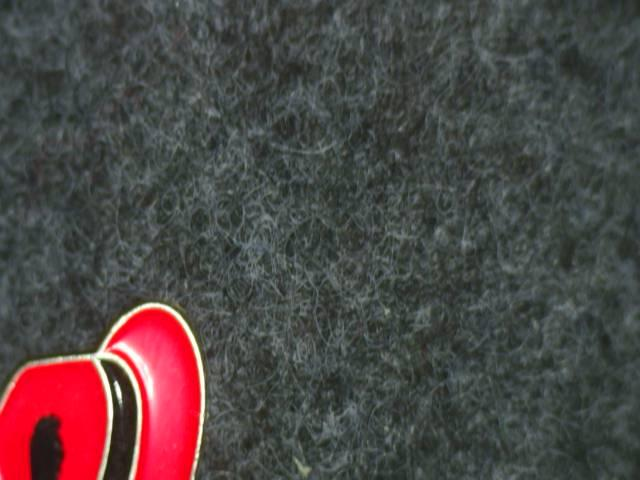Red-Hat: (0, 271, 228, 480)
Scratch: (16, 402, 73, 480)
